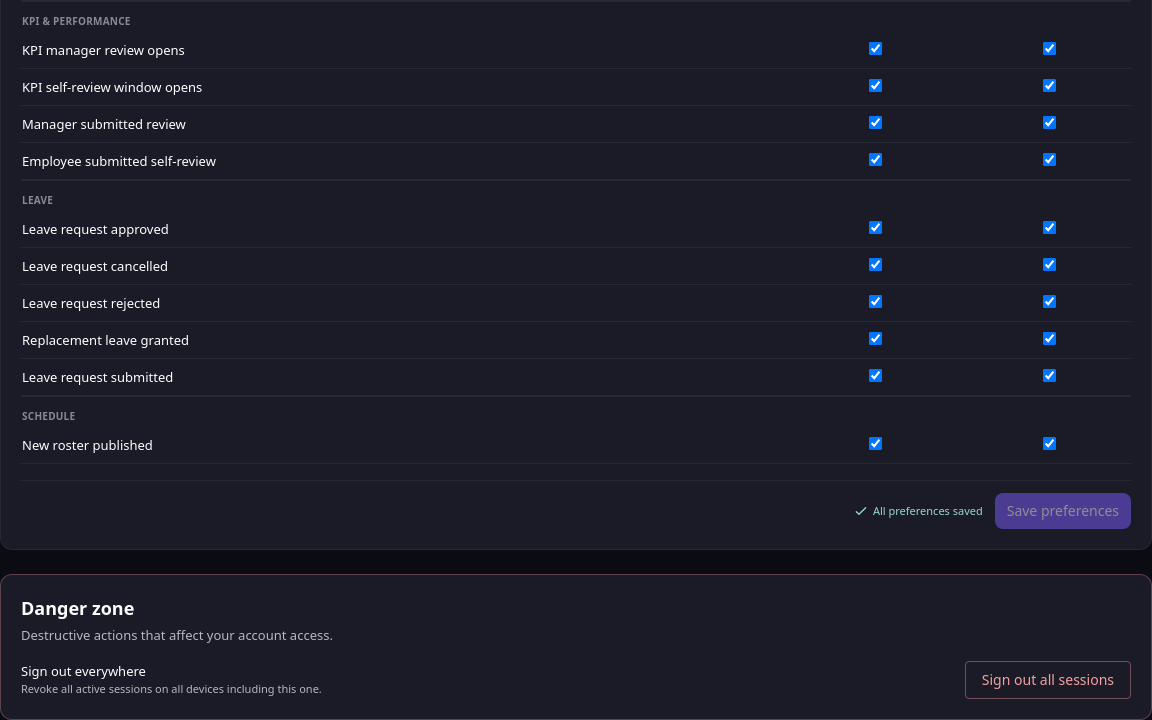
Test: PreferencesPage › Save preferences button is disabled when no changes have been made
(page scrolled)
Expected: the button "Save preferences" is disabled, [995,493,1131,529]
Click the checkbox named "Leave request submitted in-app": [875, 376] box [869,369,882,382]
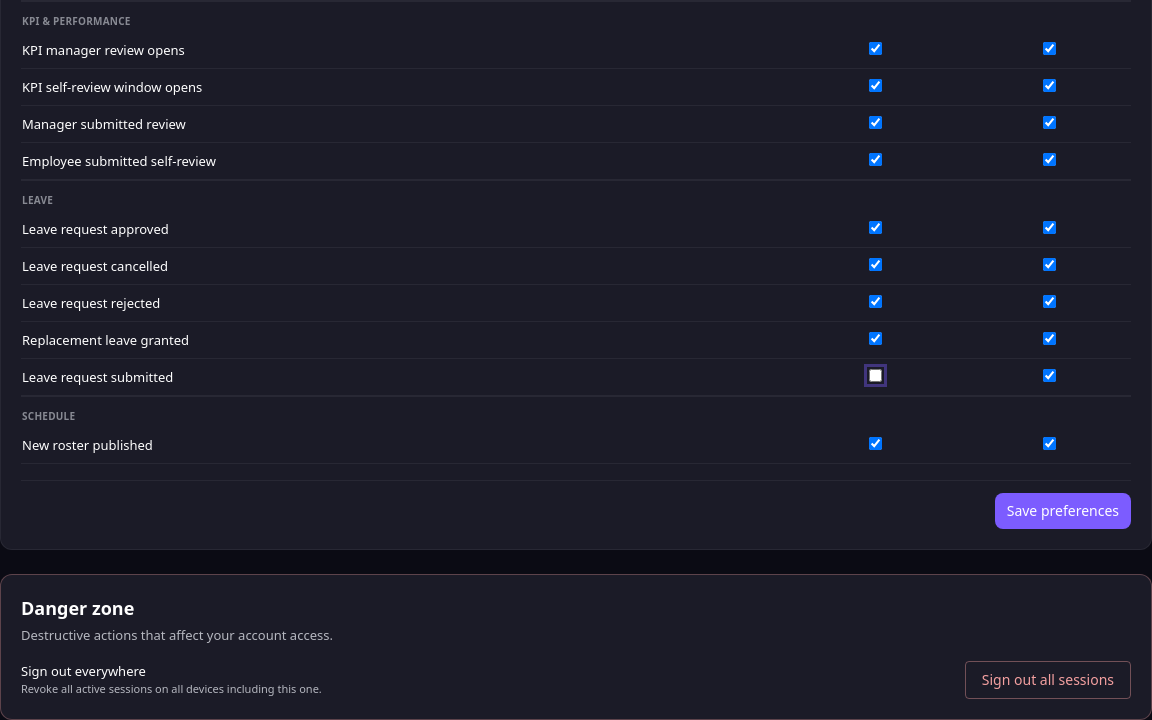
Expected: the button "Save preferences" is enabled, [995,493,1131,529]
